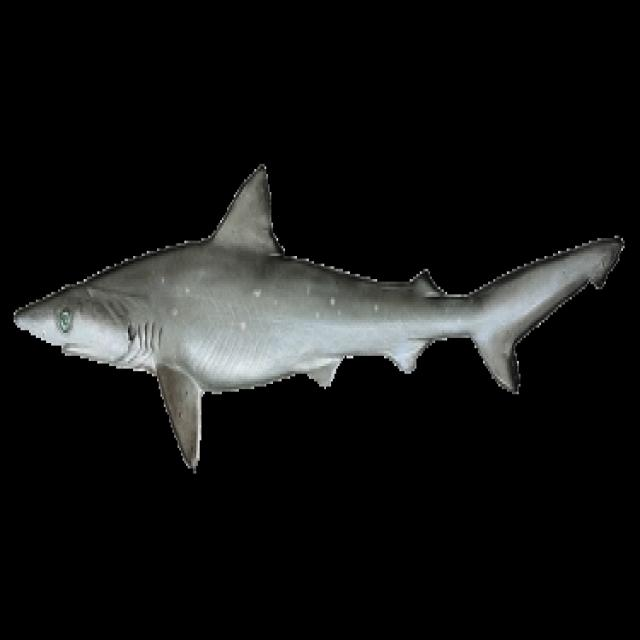gaviota: (14, 164, 623, 468)
